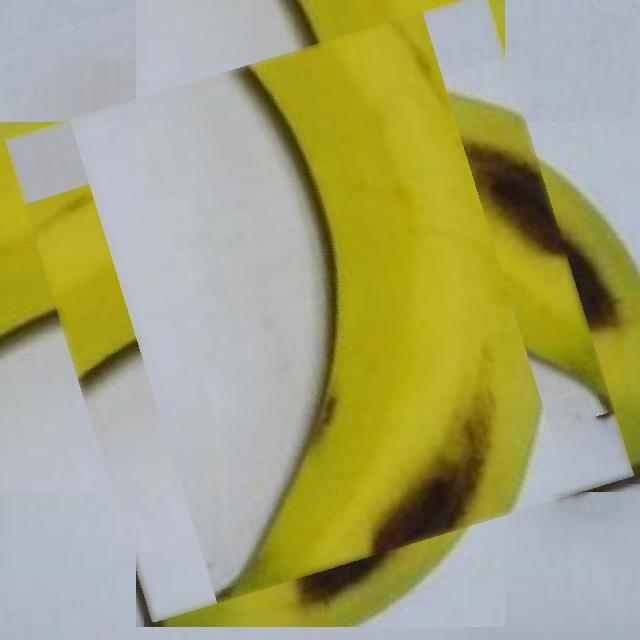Madura: (36, 23, 604, 591)
